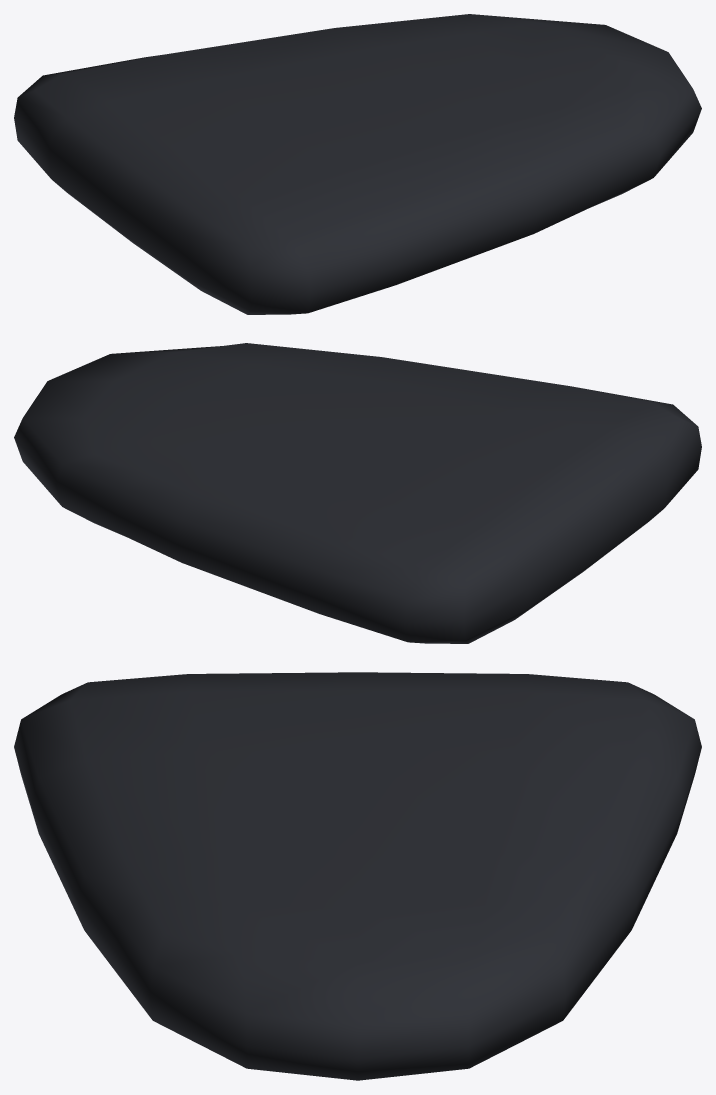
File: Penguin_Flapper.obj
The picture shows the model from 3 angles, top to bottom: view 1: azimuth 30°, elevation 25°; view 2: azimuth 150°, elevation 25°; view 3: azimuth 270°, elevation 25°; orthographic projection. The views are drawn at different scales.
Visible parts, largest first — view 1: Penguin_Flapper; view 2: Penguin_Flapper; view 3: Penguin_Flapper.
Part boxes in pixels (x1,y1,x2,y2): Penguin_Flapper: (14,14,701,314); Penguin_Flapper: (14,343,701,643); Penguin_Flapper: (14,672,701,1080).
Bounding box in the file's own units: 0.541 × 0.0843 × 0.4515.
